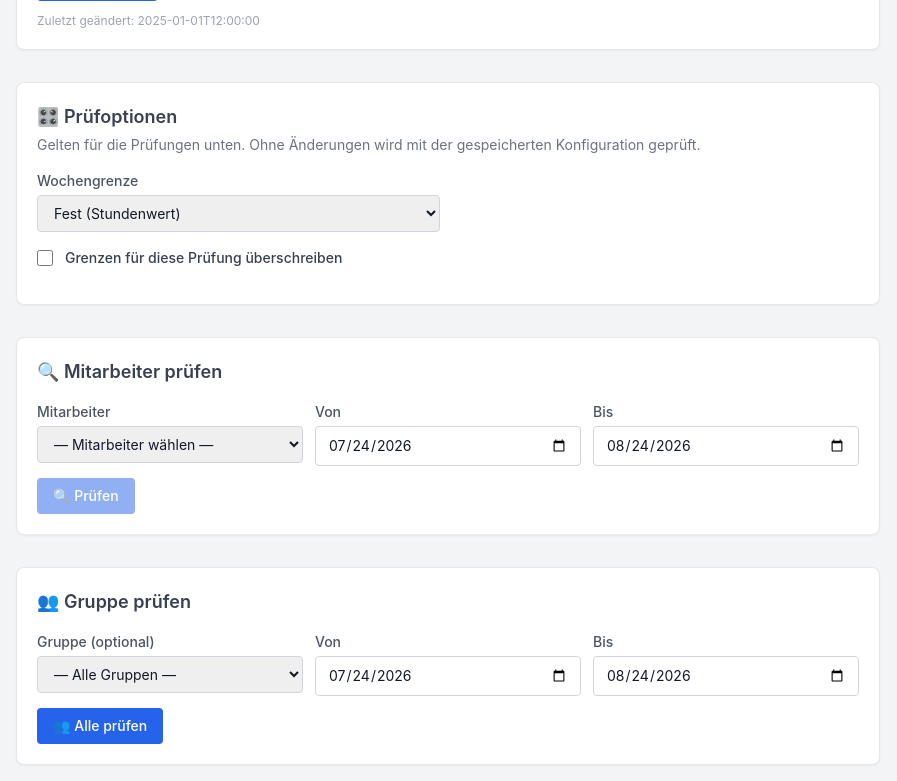
Test: WorkTimeRules page › renders error severity badge for error violations
The width and height of the screenshot is (897, 781).
(page scrolled)
Select "Muster Max (MM)" in the dropdown named "Mitarbeiter auswählen": (170, 444) left=37, top=426, right=303, bottom=463
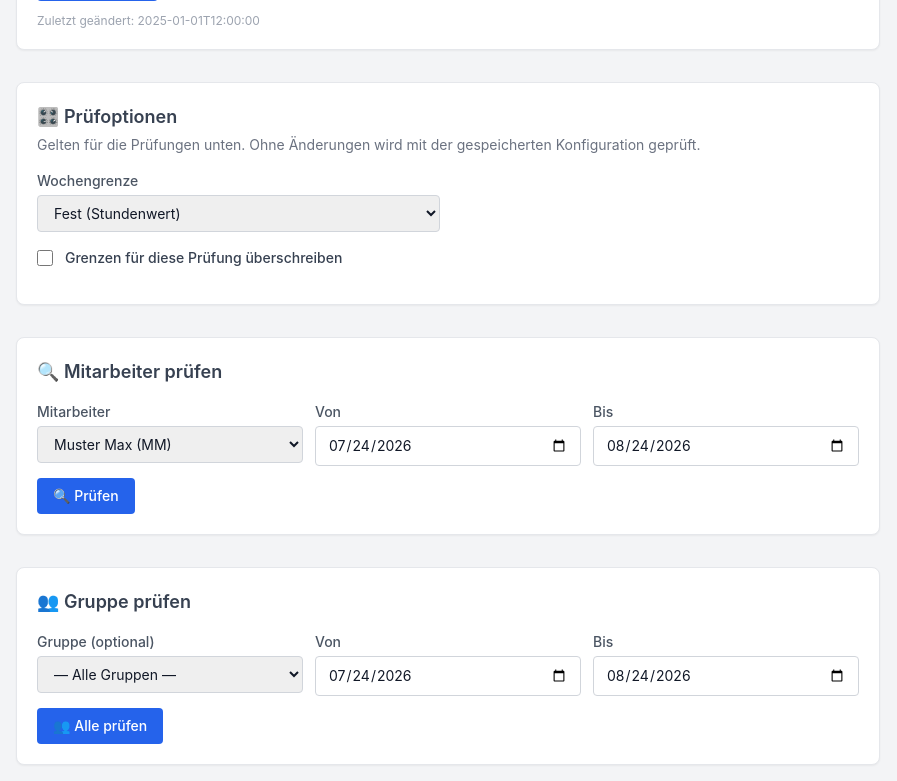
Click the button with aria-label "Mitarbeiter prüfen": (86, 496) left=37, top=478, right=135, bottom=514
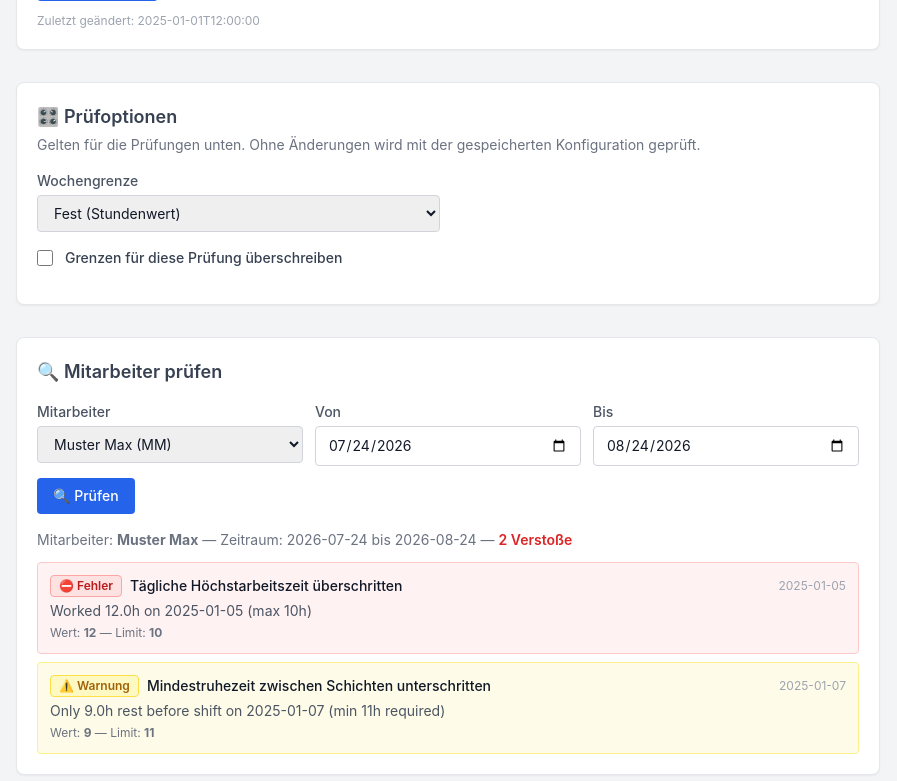
Check: the text "⛔ Fehler" is shown, box left=50, top=575, right=122, bottom=597
